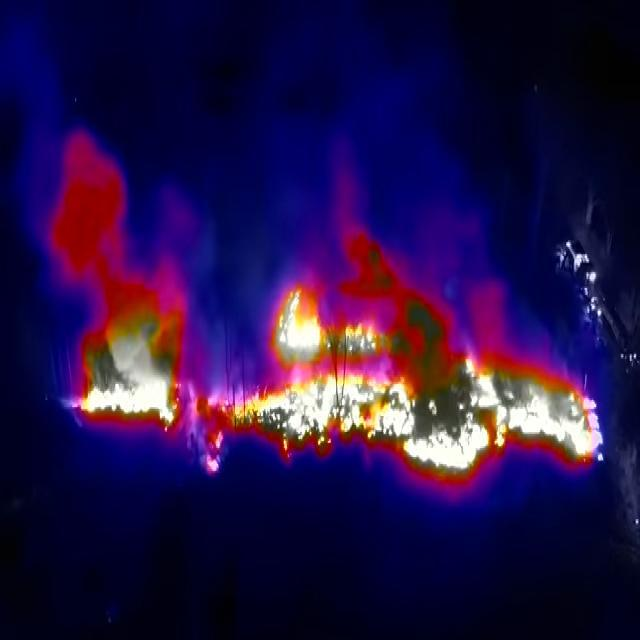fire: (205, 286, 608, 491), (73, 286, 191, 436)
